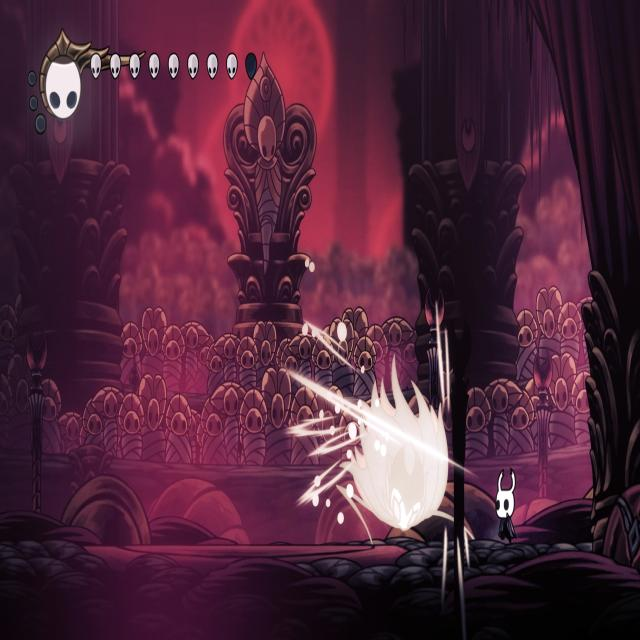Dash Uppercut: (333, 343, 478, 544)
Player: (491, 462, 518, 544)
